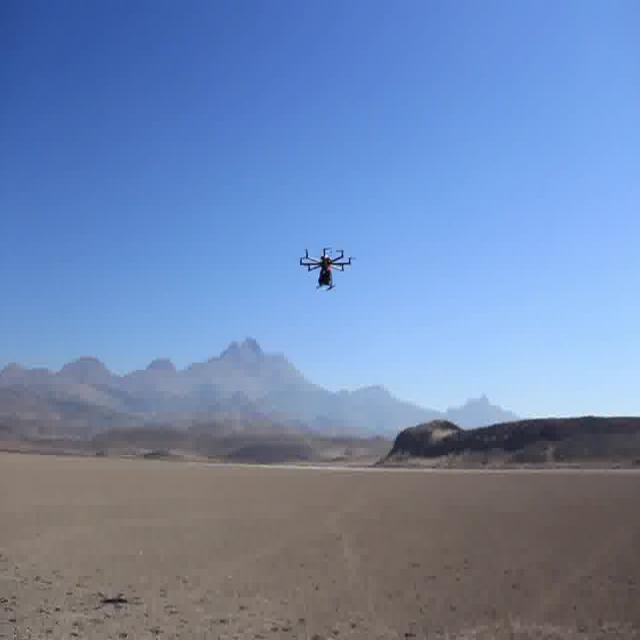drone: (296, 227, 358, 301)
